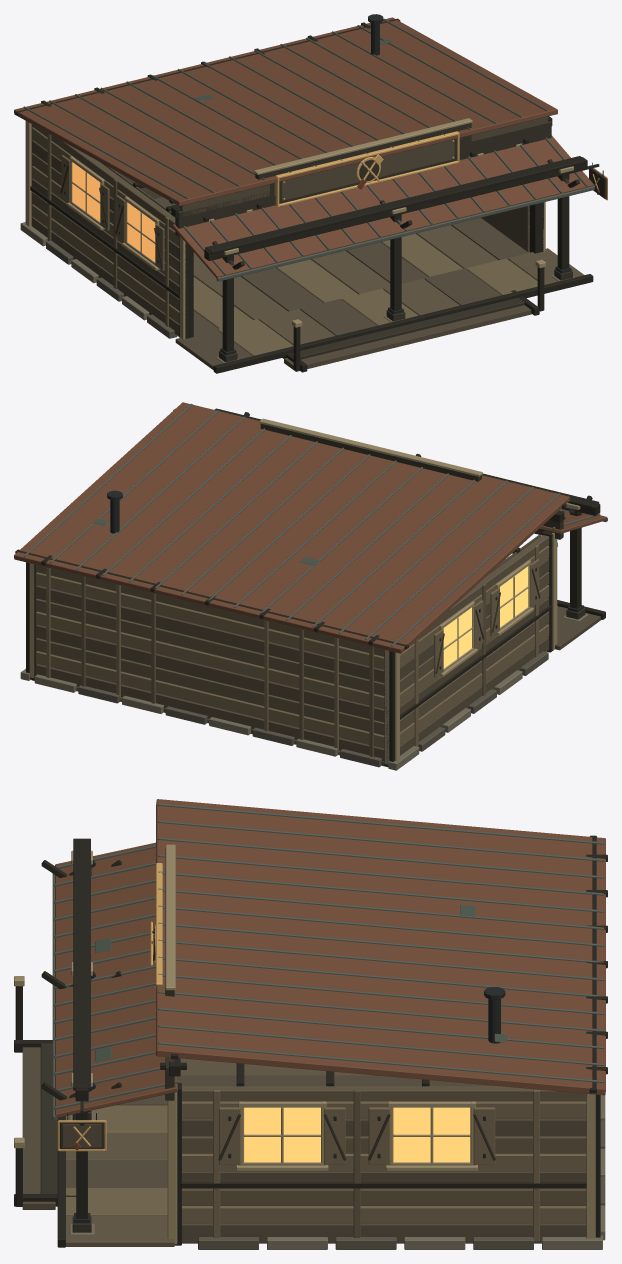
File: armory.gltf
The picture shows the model from 3 angles, top to bottom: view 1: azimuth 30°, elevation 25°; view 2: azimuth 150°, elevation 25°; view 3: azimuth 270°, elevation 25°; orthographic projection. The views are drawn at different scales.
Visible parts, largest first — view 1: armory_lamiera_ruggine, armory_legno, armory_trave, armory_legno_chiaro, armory_legno_medio, armory_lamiera, armory_legno_scuro, armory_finitura, armory_vetro_caldo, armory_oro, armory_pietra, armory_pietra_scura (+1 smaller); view 2: armory_lamiera_ruggine, armory_legno_chiaro, armory_legno_medio, armory_legno, armory_lamiera, armory_trave, armory_finitura, armory_pietra, armory_pietra_scura, armory_vetro_caldo, armory_legno_scuro, armory_ferro; view 3: armory_lamiera_ruggine, armory_lamiera, armory_legno_chiaro, armory_legno_medio, armory_legno, armory_trave, armory_finitura, armory_vetro_caldo, armory_legno_scuro, armory_pietra, armory_pietra_scura, armory_oro (+2 smaller).
Boxes of the visible parts, left/top/right/bottom form: armory_lamiera_ruggine: left=14, top=17, right=593, bottom=278; armory_legno: left=32, top=116, right=547, bottom=371; armory_trave: left=15, top=18, right=593, bottom=373; armory_legno_chiaro: left=32, top=127, right=537, bottom=355; armory_legno_medio: left=32, top=124, right=584, bottom=344; armory_lamiera: left=23, top=18, right=594, bottom=281; armory_legno_scuro: left=60, top=121, right=606, bottom=362; armory_finitura: left=26, top=118, right=573, bottom=339; armory_vetro_caldo: left=72, top=162, right=155, bottom=262; armory_oro: left=275, top=131, right=607, bottom=206; armory_pietra: left=20, top=222, right=574, bottom=363; armory_pietra_scura: left=46, top=240, right=177, bottom=338; armory_lamiera_ruggine: left=14, top=402, right=606, bottom=653; armory_legno_chiaro: left=36, top=545, right=558, bottom=755; armory_legno_medio: left=36, top=535, right=549, bottom=756; armory_legno: left=31, top=510, right=601, bottom=767; armory_lamiera: left=23, top=403, right=607, bottom=646; armory_trave: left=15, top=408, right=605, bottom=766; armory_finitura: left=29, top=418, right=580, bottom=764; armory_pietra: left=20, top=613, right=588, bottom=770; armory_pietra_scura: left=78, top=651, right=548, bottom=767; armory_vetro_caldo: left=443, top=566, right=528, bottom=668; armory_legno_scuro: left=260, top=423, right=585, bottom=673; armory_ferro: left=107, top=490, right=583, bottom=669; armory_lamiera_ruggine: left=55, top=799, right=605, bottom=1117; armory_lamiera: left=52, top=803, right=604, bottom=1120; armory_legno_chiaro: left=66, top=1090, right=586, bottom=1241; armory_legno_medio: left=66, top=1058, right=586, bottom=1246; armory_legno: left=22, top=1047, right=586, bottom=1243; armory_trave: left=14, top=835, right=607, bottom=1247; armory_finitura: left=14, top=844, right=595, bottom=1244; armory_vetro_caldo: left=244, top=1107, right=470, bottom=1162; armory_legno_scuro: left=40, top=848, right=495, bottom=1232; armory_pietra: left=69, top=1095, right=605, bottom=1249; armory_pietra_scura: left=198, top=1120, right=605, bottom=1249; armory_oro: left=57, top=863, right=162, bottom=1151.
Bounding box in the file's own units: 10.38 × 4.18 × 9.94.
